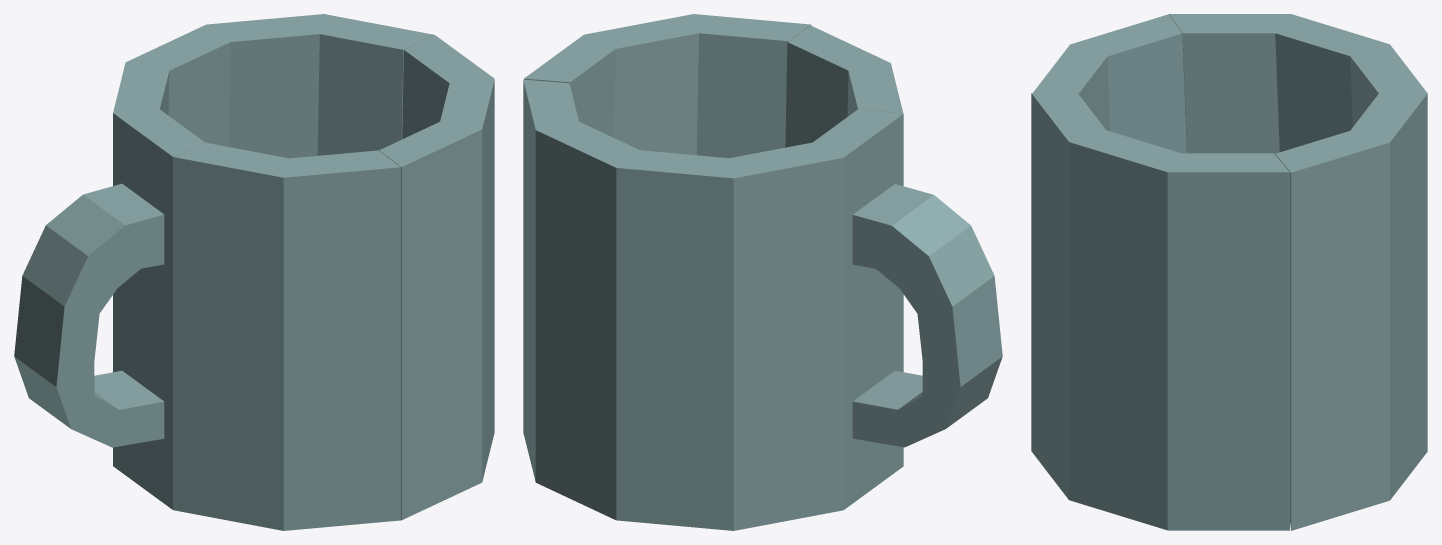
File: cupbroken.fbx
3 renders of one model, left to right at view 1: azimuth 30°, elevation 25°; view 2: azimuth 150°, elevation 25°; view 3: azimuth 270°, elevation 25°, orthographic.
Visible parts, largest first — view 1: Cube.004; view 2: Cube.004; view 3: Cube.004.
Boxes of the visible parts, <box> form: Cube.004: <box>14,14,494,530</box>; Cube.004: <box>523,14,1002,530</box>; Cube.004: <box>1031,14,1427,530</box>.
Bounding box in the file's own units: 116 × 91.57 × 91.74.
